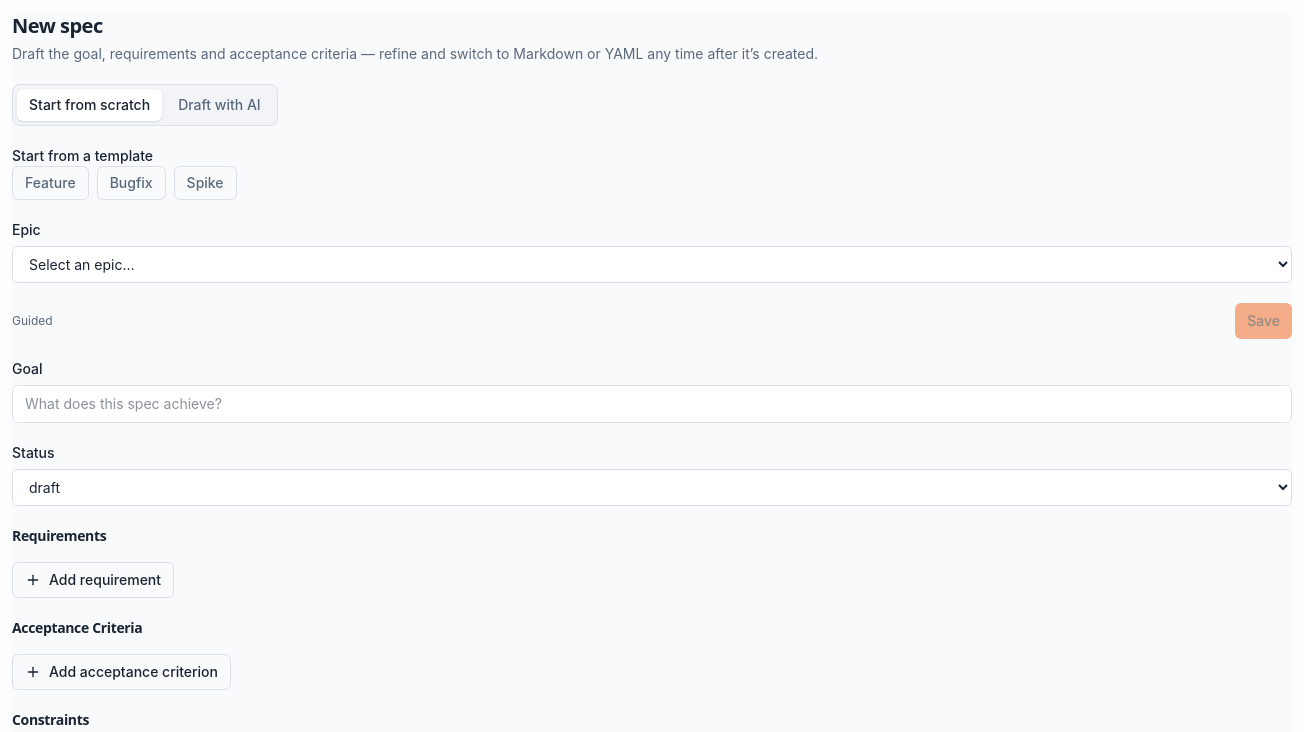
Test case: NewSpecPage › starter templates › seeds a requirement and acceptance criterion when a template is picked
Click the button with test id "spec-template-bugfix".
click(131, 183)  # box [97,166,166,200]
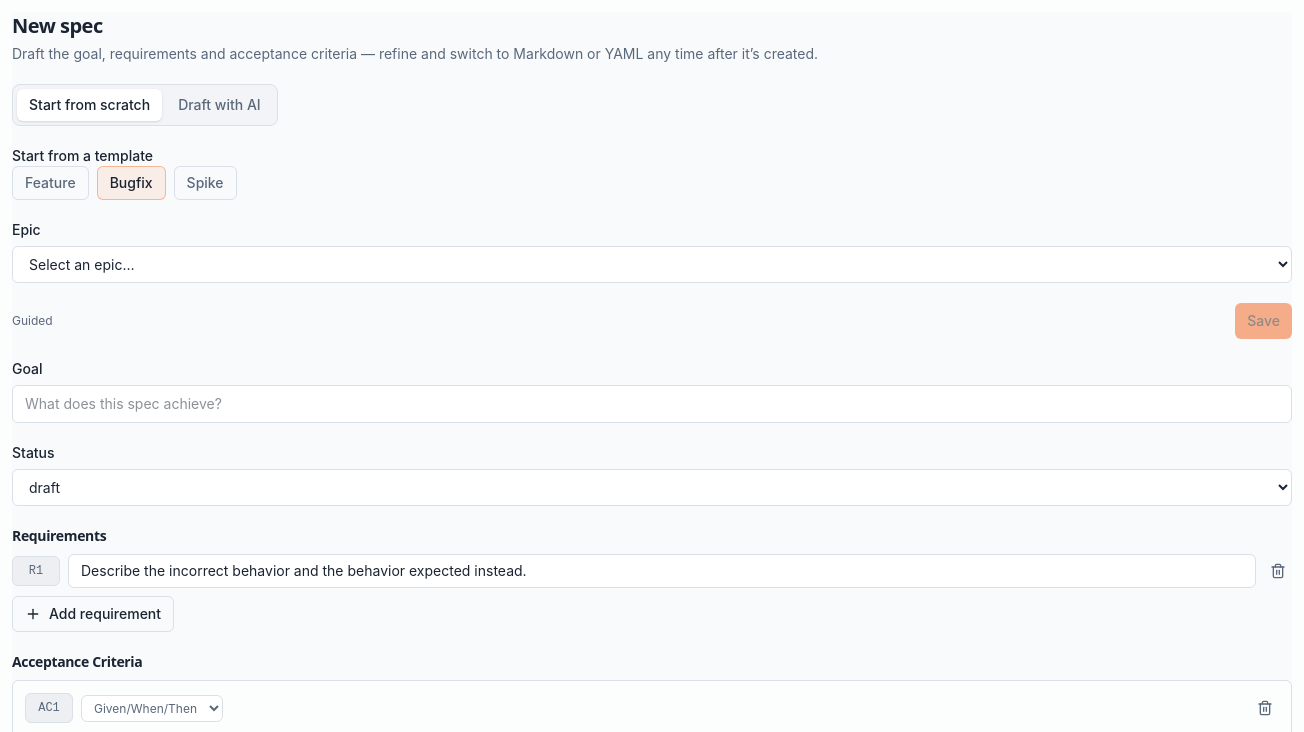
Check: the field showing "Describe the incorrect behavior" is shown, box [68,554,1256,588]
